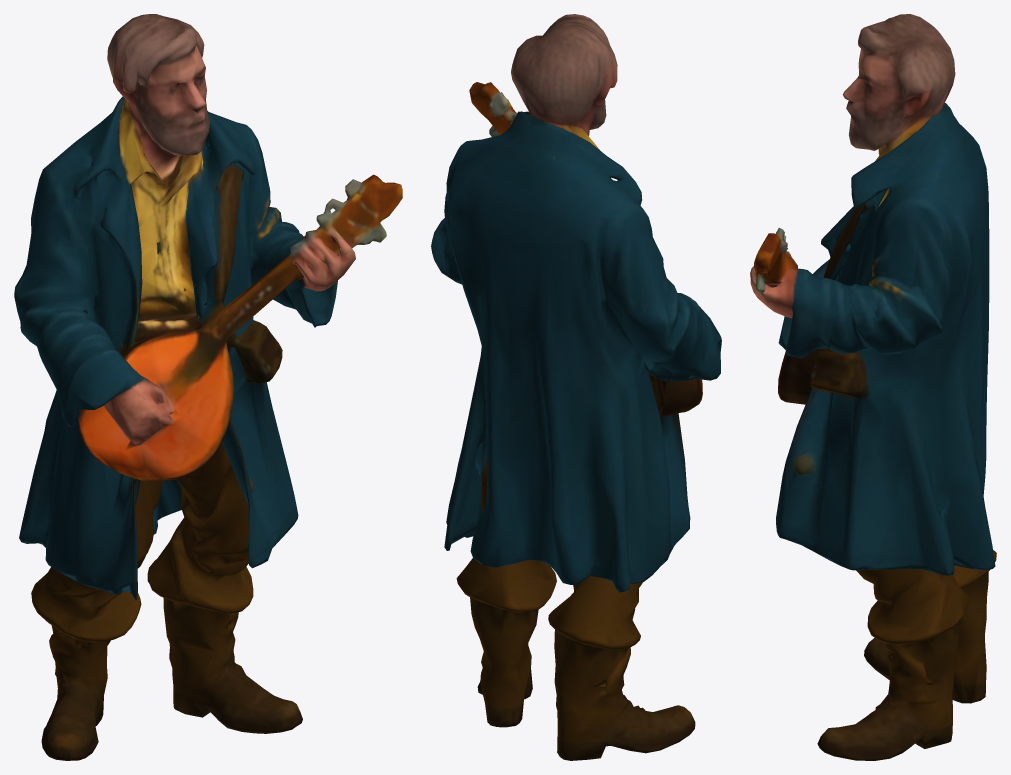
The model's file is matthew.glb.
3 views of the same model, side by side, from view 1: azimuth 30°, elevation 25°; view 2: azimuth 150°, elevation 25°; view 3: azimuth 270°, elevation 25° (orthographic). The views are drawn at different scales.
Parts seen in each view (by area): view 1: geometry_0; view 2: geometry_0; view 3: geometry_0.
Part boxes in pixels (box(x1,y1,x2,y2)): geometry_0: box(14, 14, 402, 760); geometry_0: box(431, 14, 721, 760); geometry_0: box(750, 14, 996, 760).
Bounding box in the file's own units: 0.4387 × 1 × 0.3231.
1 material, 1 textured.
